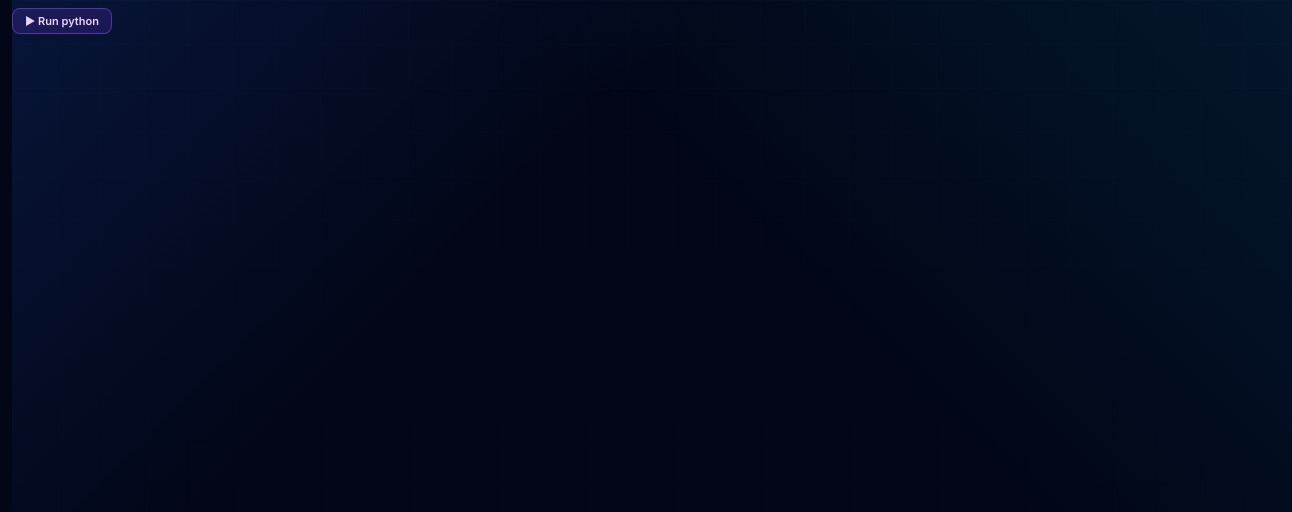
Test case: click + mocked execute SUCCESS -> "Executed" + stdout; nothing before click
Click the button with test id "run-code-btn".
click(62, 21)  # box [12,8,112,34]
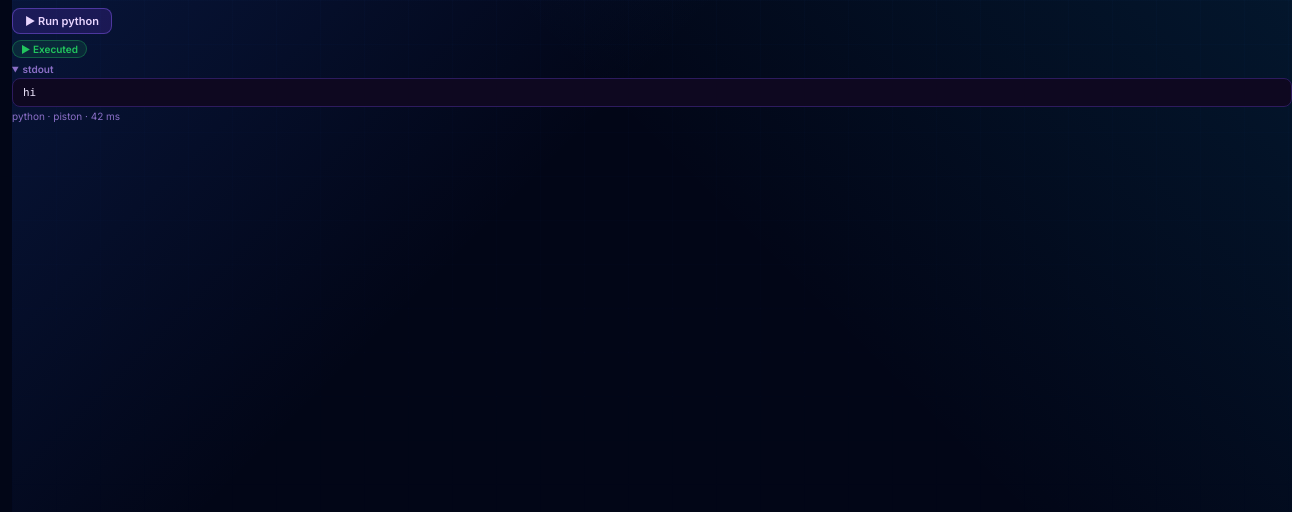
Expected: the text with test id "runtime-badge" shows "Executed", [33,43,78,55]
Expected: the element with test id "runtime-stdout" shows "hi", [23,86,36,99]
